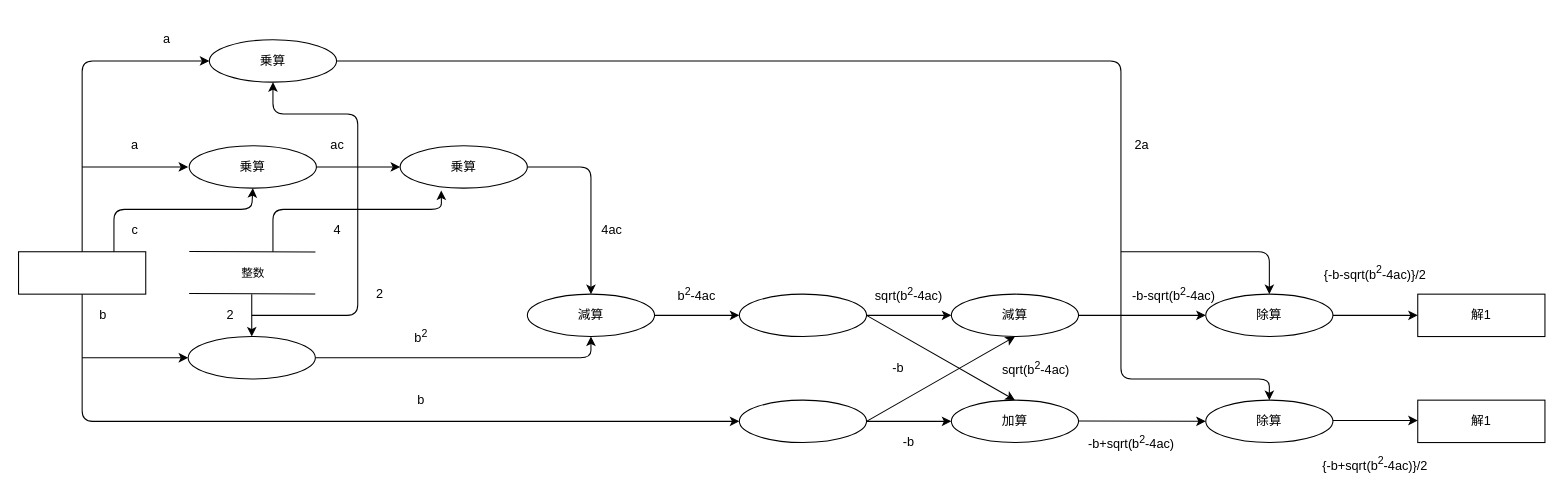
The diagram is 1563 pixels wide and 502 high, and some of its shapes have lost their labels. Each missing label, with the box of its shape:
係数: (17, 251, 146, 294)
巾乗: (187, 335, 315, 379)
平方根: (738, 293, 867, 337)
符号反転: (738, 399, 867, 443)
